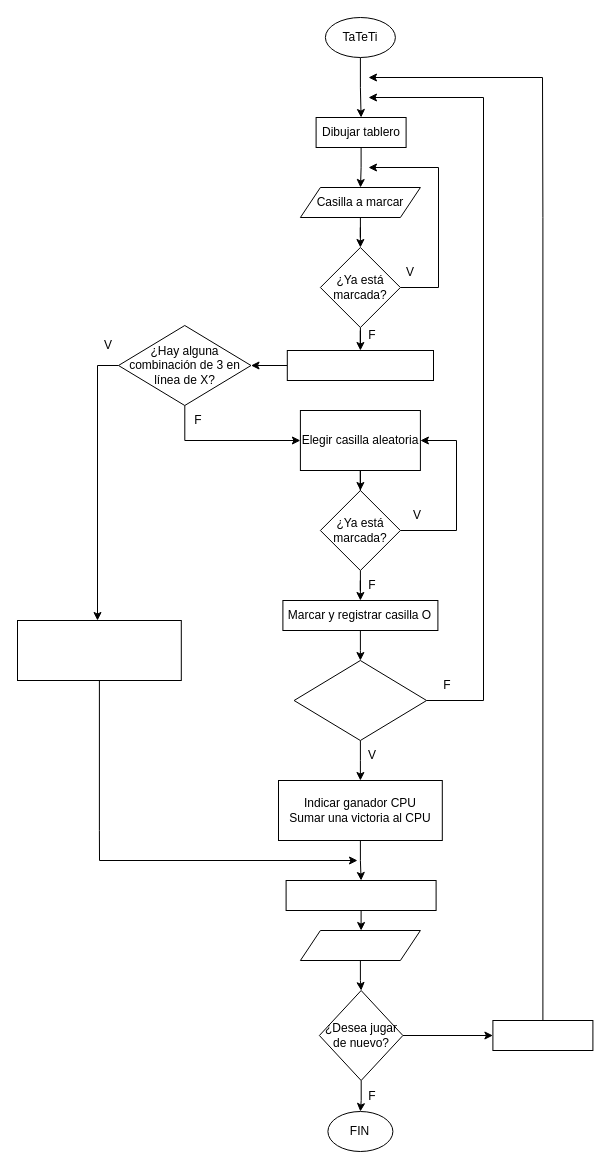
Image size: 611x1169. Some labels were removed from this diagram. The shapes that lost their labels are listed below. From the top down, each one's box as (x1, y1, x2, y2) in pixels, then its label:
(286, 350, 434, 380): Marcar y registrar casilla X
(16, 620, 181, 680): Indicar ganador usuario Sumar una victoria al usuario
(293, 660, 427, 740): ¿Hay alguna combinación de 3 en línea?
(285, 880, 436, 910): Indicar victorias de ambos
(299, 930, 420, 960): Jugar de nuevo
(492, 1020, 593, 1050): Reiniciar casillas
